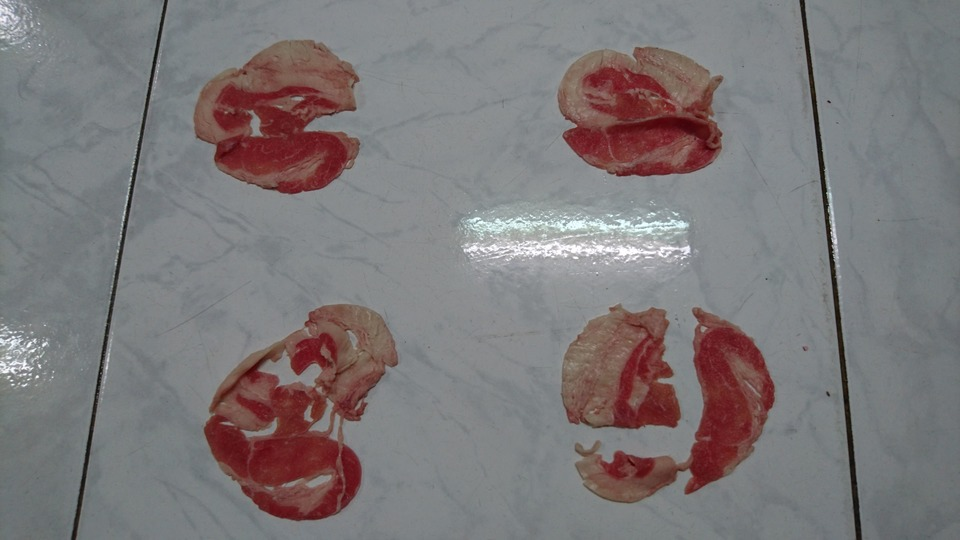restructured meat: (560, 299, 779, 505), (199, 304, 398, 527), (559, 22, 725, 187), (196, 35, 355, 198)
